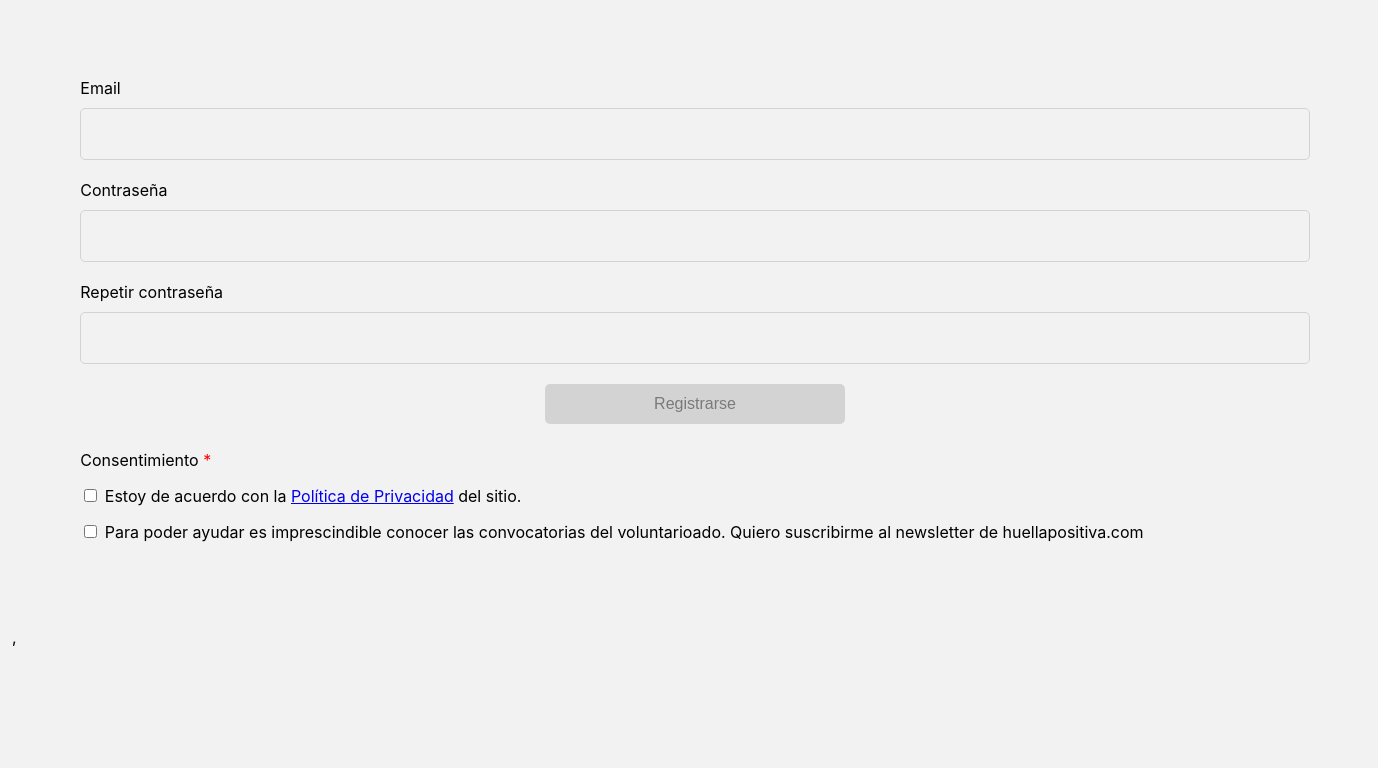
Test case: FormRegisterVolunteer should › display a message when password is too short
This screenshot has width=1378, height=768.
In the 1st password field named "input-form": [695, 236] box [80,210,1310,262], type "short"
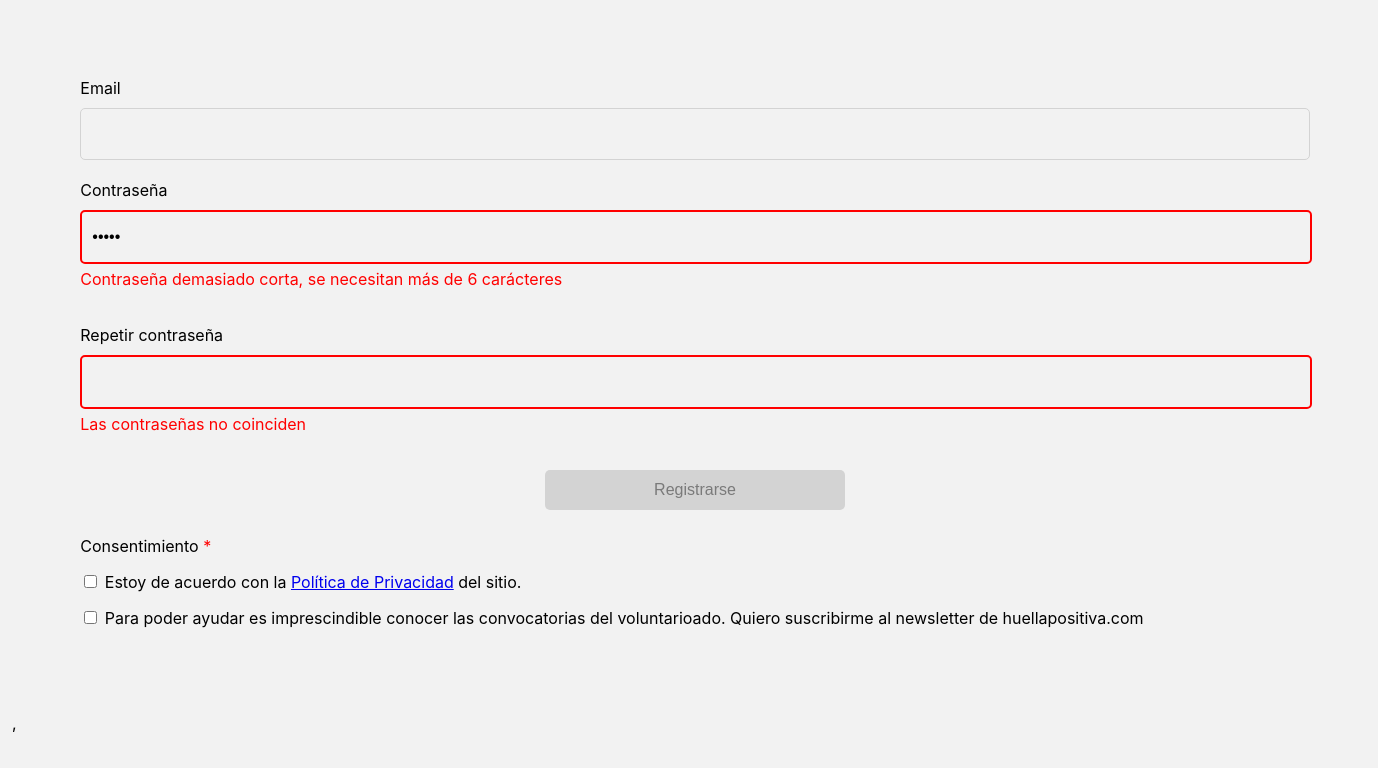
Now the text "Contraseña demasiado corta" is shown, box [80,269,562,289]
